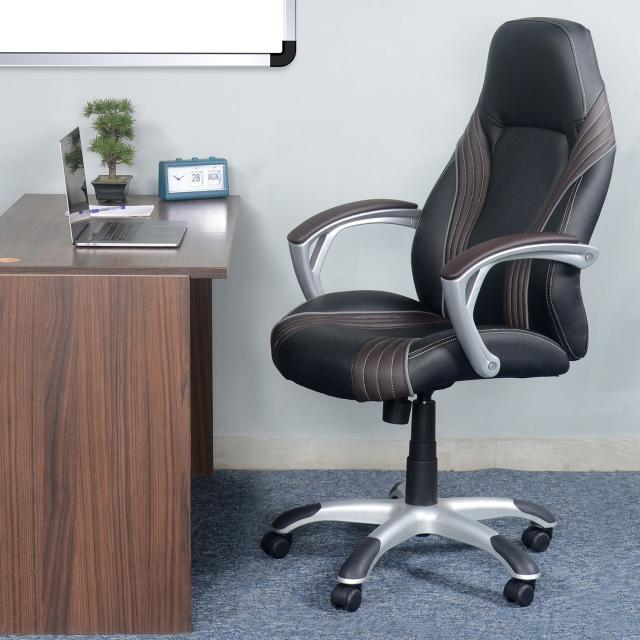chair: (260, 16, 617, 612)
